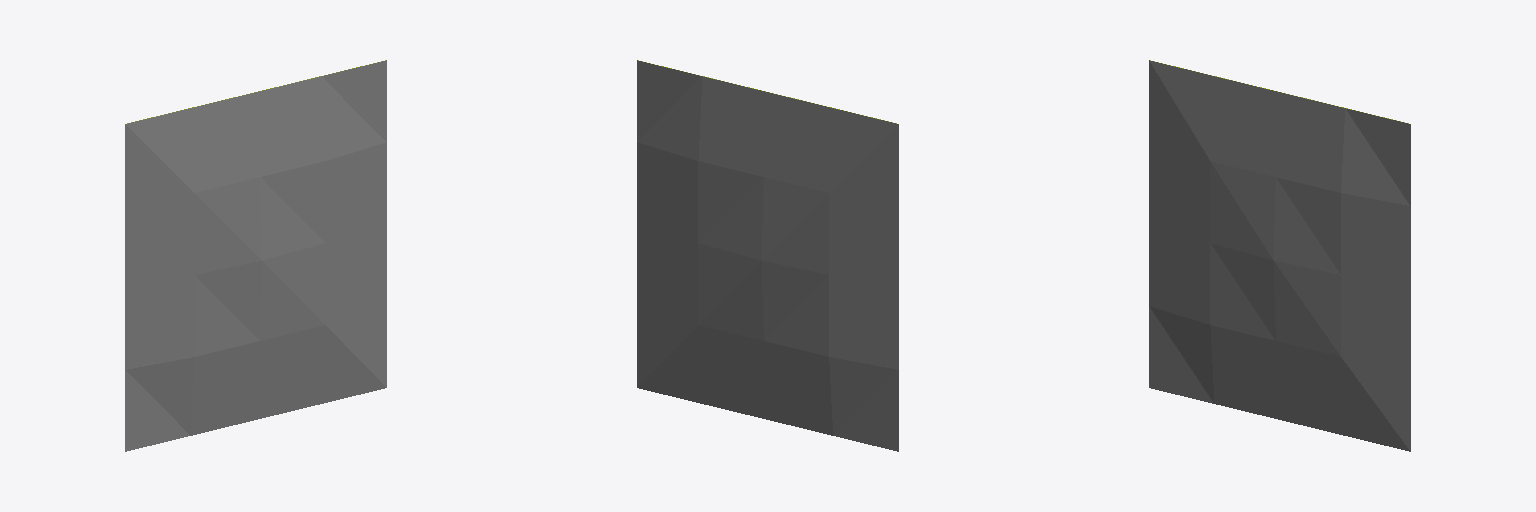
Rendered from gasanotejida5x5.obj.
3 views of the same model, side by side, from view 1: azimuth 30°, elevation 25°; view 2: azimuth 150°, elevation 25°; view 3: azimuth 330°, elevation 25° (orthographic).
Parts seen in each view (by area): view 1: c012; view 2: c012; view 3: c012.
Boxes of the visible parts, x1,y1,x2,y2 form: c012: [125, 60, 386, 451]; c012: [637, 60, 898, 451]; c012: [1149, 60, 1410, 451].
Bounding box in the file's own units: 0.6476 × 0.7756 × 0.0546.